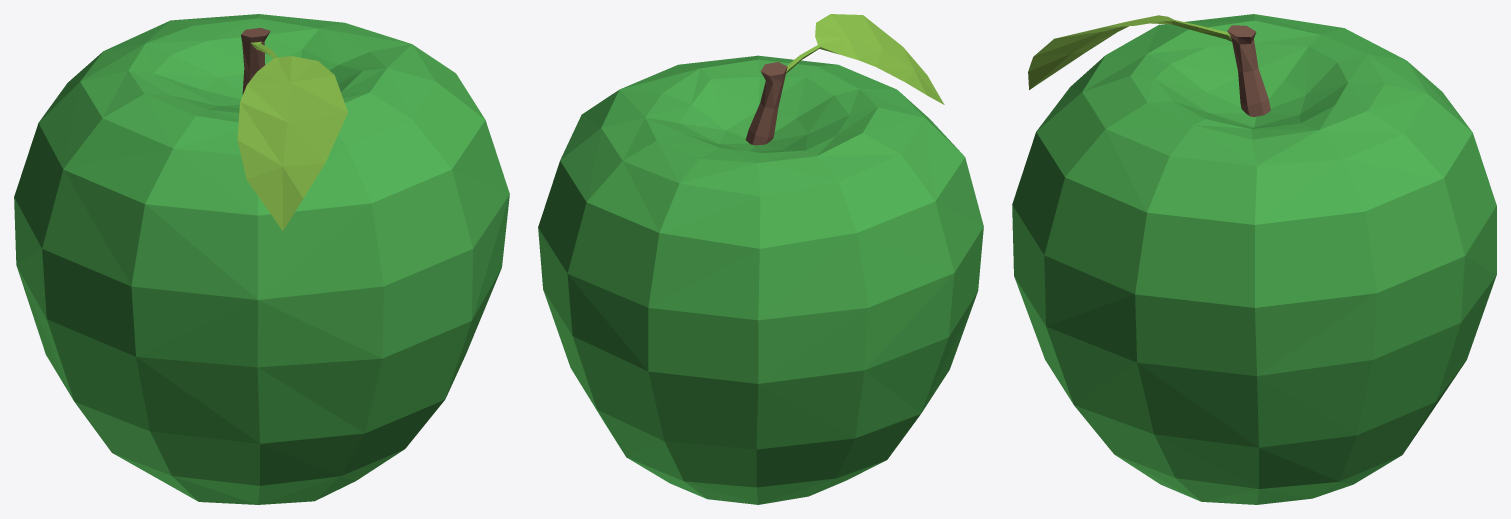
The model's file is apple.fbx.
3 views of the same model, side by side, from view 1: azimuth 30°, elevation 25°; view 2: azimuth 150°, elevation 25°; view 3: azimuth 270°, elevation 25° (orthographic). The views are drawn at different scales.
Visible parts, largest first — view 1: mesh_422595362, group_916963156; view 2: mesh_422595362, group_916963156; view 3: mesh_422595362, group_916963156.
Part boxes in pixels (x1,y1,x2,y2): mesh_422595362: (14,14,509,504); group_916963156: (237,28,347,230); mesh_422595362: (538,55,983,504); group_916963156: (745,14,944,145); mesh_422595362: (1012,14,1496,504); group_916963156: (1028,15,1270,116).
Bounding box in the file's own units: 166 × 163 × 163.
